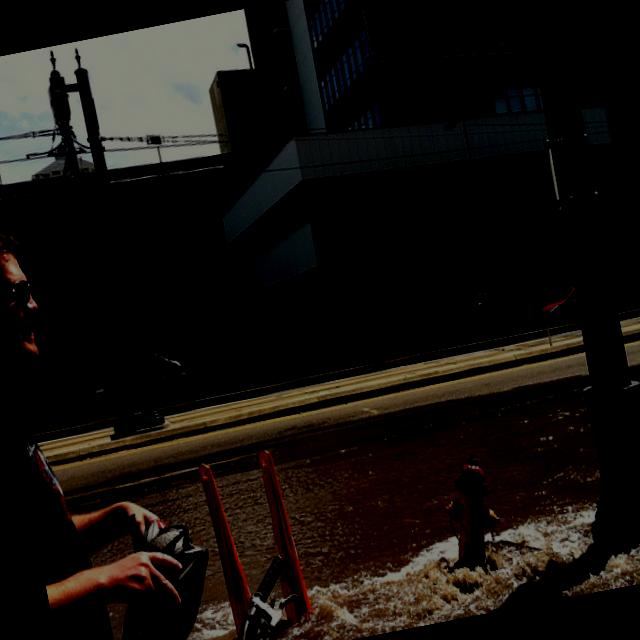Vehicle: (531, 277, 632, 330), (186, 341, 240, 372), (100, 362, 137, 399), (152, 350, 183, 378)
